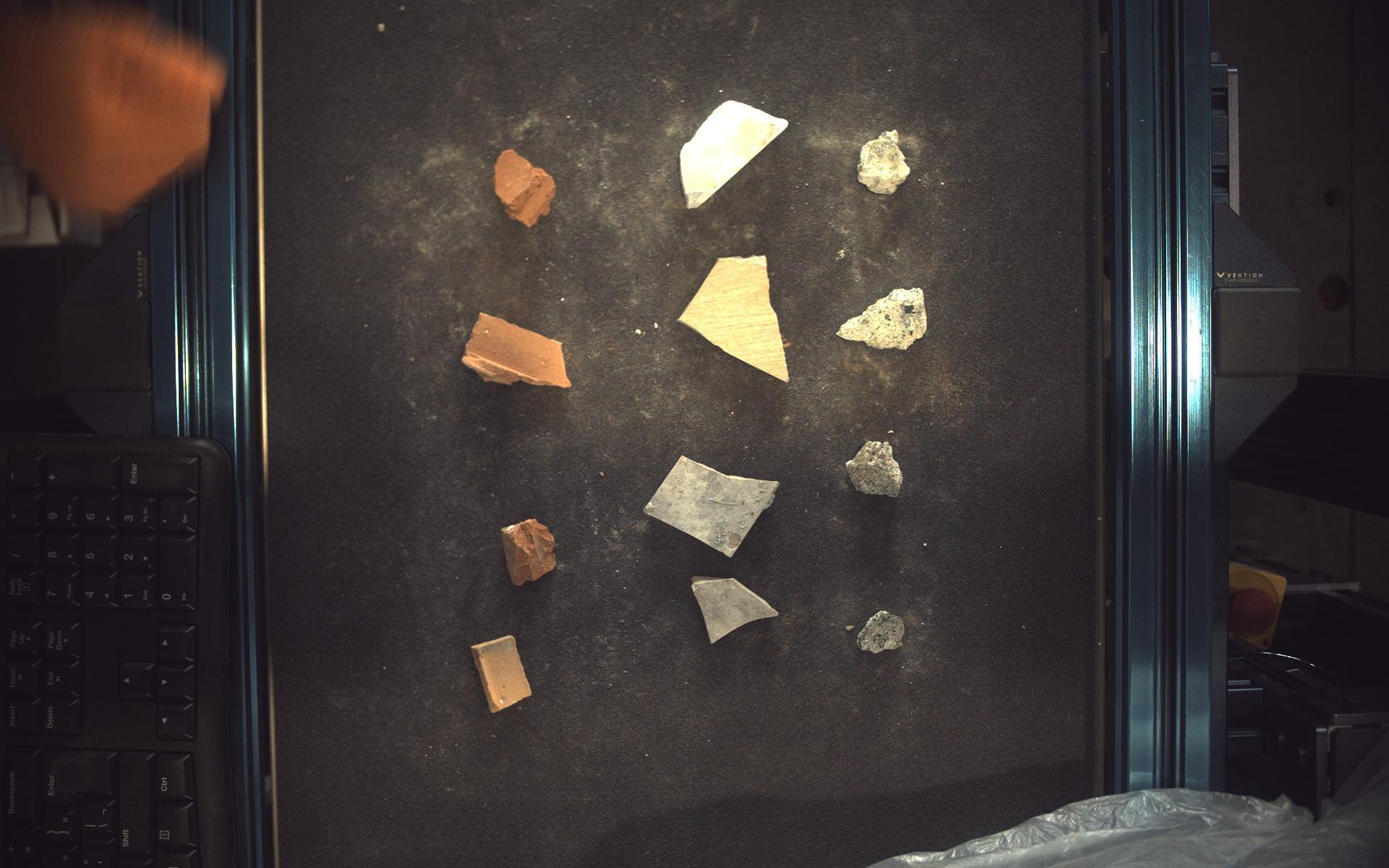brick: (462, 312, 572, 388), (495, 148, 556, 226), (471, 637, 532, 714), (501, 519, 556, 587)
concrete: (838, 288, 929, 350), (859, 129, 912, 193), (847, 442, 904, 498), (859, 611, 906, 655)
tile: (680, 255, 790, 381), (645, 456, 780, 558), (681, 100, 790, 208), (692, 576, 780, 644)
